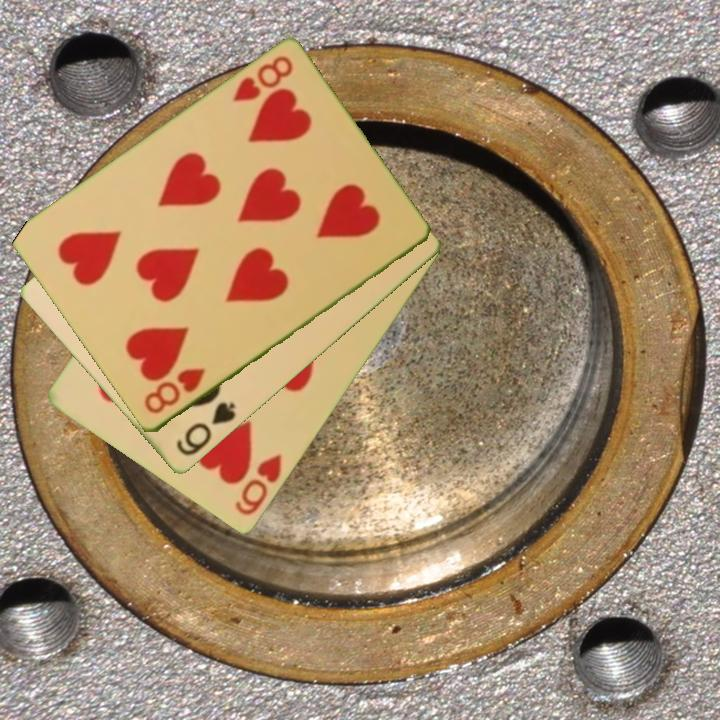6h: (231, 451, 285, 520)
6s: (172, 399, 239, 460)
8h: (140, 365, 209, 418), (229, 52, 296, 106)
